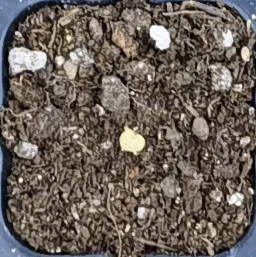pepper seed: (46, 51, 192, 204)
